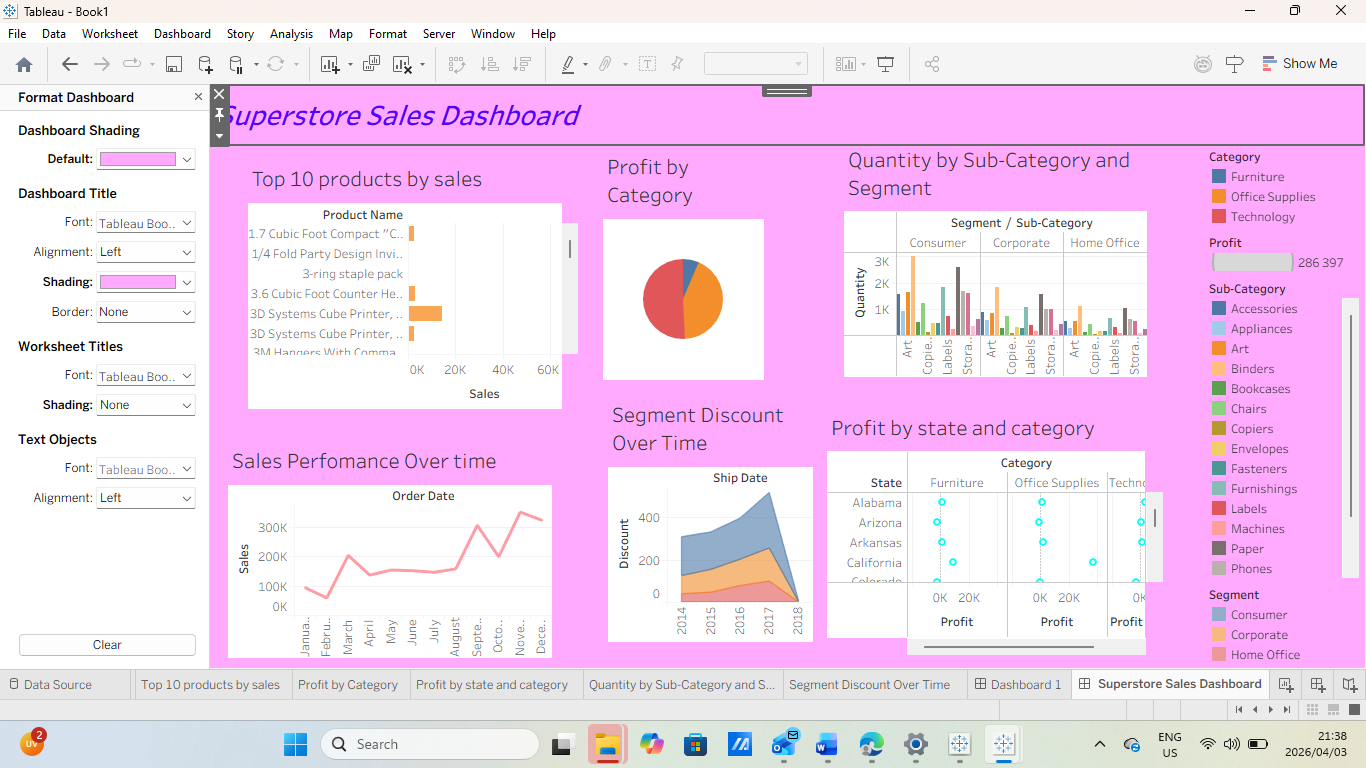

What the dashboard file says about the page in this screenshot:
{"tool":"tableau","page":{"name":" Superstore Sales Dashboard","canvas":[1000,1000],"units":"permille","ordinal":0},"visuals":[{"type":"title","box":[0,0,1000,102.7]},{"type":"worksheet","title":"Quantity by Sub-Category and Segment","mark":"Automatic","rows":["Quantity"],"cols":["Segment","Sub-Category"],"box":[548.9,97.6,263.2,405.8]},{"type":"legend","title":"Profit by Category","param":"[federated.005ikn91np3vct1f8ltsh01a94o7].[none:Category:nk]","box":[861.5,102.7,138.5,147.3]},{"type":"worksheet","title":"Profit by Category","mark":"Pie","box":[340.3,109.6,179.2,404.1]},{"type":"worksheet","title":"Top 10 products by sales","mark":"Automatic","rows":["Product Name"],"cols":["Sales"],"box":[32.9,130.1,285.7,426.4]},{"type":"legend","title":"Profit by Category","param":"[federated.005ikn91np3vct1f8ltsh01a94o7].[sum:Profit:qk]","box":[861.5,250,138.5,78.8]},{"type":"legend","title":"Quantity by Sub-Category and Segment","param":"[federated.005ikn91np3vct1f8ltsh01a94o7].[none:Sub-Category:nk]","box":[861.5,328.8,138.5,524]},{"type":"worksheet","title":"Segment Discount Over Time ","mark":"Area","rows":["Discount"],"cols":["Ship Date"],"box":[344.6,534.2,177.5,421.2]},{"type":"worksheet","title":"Profit by state and category","mark":"Shape","rows":["State"],"cols":["Category","Profit"],"box":[534.2,556.5,290.9,421.2]},{"type":"worksheet","title":"Sales Perfomance Over time","mark":"Automatic","rows":["Sales"],"cols":["Order Date"],"box":[15.6,613,280.5,371.6]},{"type":"legend","title":"Segment Discount Over Time ","param":"[federated.005ikn91np3vct1f8ltsh01a94o7].[none:Segment:nk]","box":[861.5,852.7,138.5,147.3]}]}

Visuals, with their boxes on the dashboard's canvas, which has no fixed pixel size, in thousandths of its width and height (x1, y1, x2, y2). These are canvas units, not pixel positions in the 1366x768 screenshot, which may show the page scaled, cropped or inside an application window:
title: BBox(0, 0, 1000, 103)
"Quantity by Sub-Category and Segment" worksheet: BBox(549, 98, 812, 503)
"Profit by Category" legend: BBox(862, 103, 1000, 250)
"Profit by Category" worksheet (Pie marks): BBox(340, 110, 520, 514)
"Top 10 products by sales" worksheet: BBox(33, 130, 319, 556)
"Profit by Category" legend: BBox(862, 250, 1000, 329)
"Quantity by Sub-Category and Segment" legend: BBox(862, 329, 1000, 853)
"Segment Discount Over Time " worksheet (Area marks): BBox(345, 534, 522, 955)
"Profit by state and category" worksheet (Shape marks): BBox(534, 556, 825, 978)
"Sales Perfomance Over time" worksheet: BBox(16, 613, 296, 985)
"Segment Discount Over Time " legend: BBox(862, 853, 1000, 1000)
